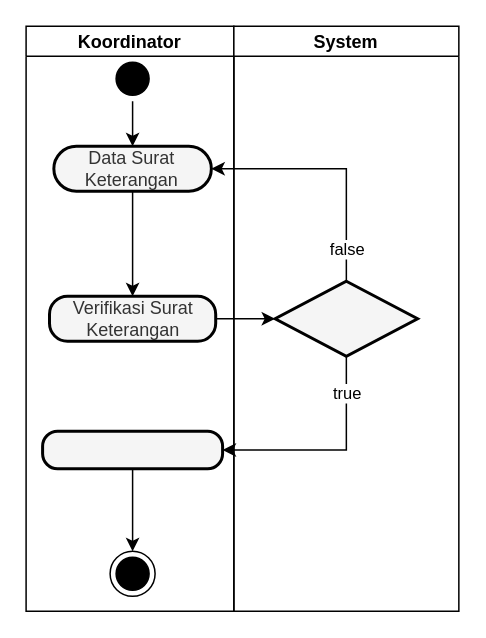
Some shapes in this 486 by 638 pixel diagram are drawn without their labels. The shapes that lost their labels are listed below. From the top down, each one's centre as x and y in pixels, then its label:
At [345,318]: "Konfirmasi".
At [131,449]: "Terverifikasi".
